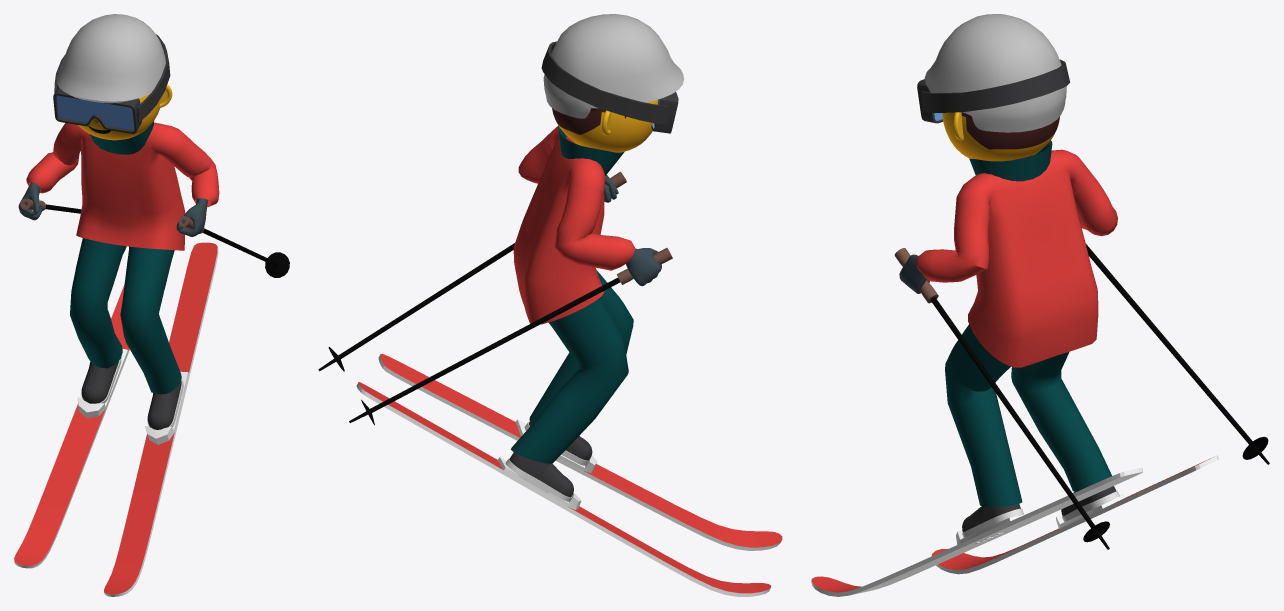
The model's file is skier.gltf.
The picture shows the model from 3 angles, left to right: view 1: azimuth 30°, elevation 25°; view 2: azimuth 150°, elevation 25°; view 3: azimuth 270°, elevation 25°; orthographic projection. The views are drawn at different scales.
Visible parts, largest first — view 1: Circle.078, Cube.254, Cube.252, Cube.253, Plane.019, Sphere.373, Sphere.022, Circle.079, Plane.020, Roundcube.450, Plane.018, Circle.082; view 2: Circle.078, Cube.252, Cube.254, Cube.253, Roundcube.450, Plane.020, Circle.082, Sphere.373, Circle.079, Plane.018, Sphere.022; view 3: Circle.078, Cube.252, Cube.254, Plane.020, Roundcube.450, Cube.253, Circle.079, Circle.082, Plane.018, Sphere.022, Sphere.373.
Boxes of the visible parts, x1=… form: Circle.078: x1=18, y1=122, x2=219, y2=401; Cube.254: x1=104, y1=242, x2=218, y2=596; Cube.252: x1=57, y1=14, x2=165, y2=103; Cube.253: x1=14, y1=284, x2=129, y2=568; Plane.019: x1=53, y1=87, x2=141, y2=133; Sphere.373: x1=80, y1=358, x2=121, y2=403; Sphere.022: x1=147, y1=379, x2=183, y2=429; Circle.079: x1=178, y1=216, x2=289, y2=277; Plane.020: x1=54, y1=34, x2=170, y2=123; Roundcube.450: x1=78, y1=94, x2=160, y2=140; Plane.018: x1=90, y1=120, x2=154, y2=154; Circle.082: x1=20, y1=198, x2=81, y2=213; Circle.078: x1=511, y1=126, x2=661, y2=463; Cube.252: x1=543, y1=14, x2=684, y2=118; Cube.254: x1=378, y1=353, x2=782, y2=550; Cube.253: x1=356, y1=382, x2=770, y2=596; Roundcube.450: x1=552, y1=100, x2=658, y2=152; Plane.020: x1=541, y1=41, x2=669, y2=124; Circle.082: x1=349, y1=248, x2=672, y2=425; Sphere.373: x1=505, y1=452, x2=573, y2=501; Circle.079: x1=318, y1=171, x2=626, y2=371; Plane.018: x1=558, y1=125, x2=624, y2=175; Sphere.022: x1=524, y1=421, x2=592, y2=465; Circle.078: x1=899, y1=149, x2=1117, y2=507; Cube.252: x1=924, y1=14, x2=1066, y2=132; Cube.254: x1=811, y1=468, x2=1142, y2=596; Plane.020: x1=921, y1=59, x2=1070, y2=113; Roundcube.450: x1=942, y1=112, x2=1059, y2=161; Cube.253: x1=931, y1=455, x2=1218, y2=574; Circle.079: x1=894, y1=248, x2=1109, y2=549; Circle.082: x1=1085, y1=243, x2=1269, y2=464; Plane.018: x1=969, y1=140, x2=1052, y2=181; Sphere.022: x1=962, y1=504, x2=1023, y2=537; Sphere.373: x1=1061, y1=486, x2=1119, y2=521.
Bounding box in the file's own units: 1.49 × 2.14 × 1.46.
Materials: 7 (2 with a texture image).
